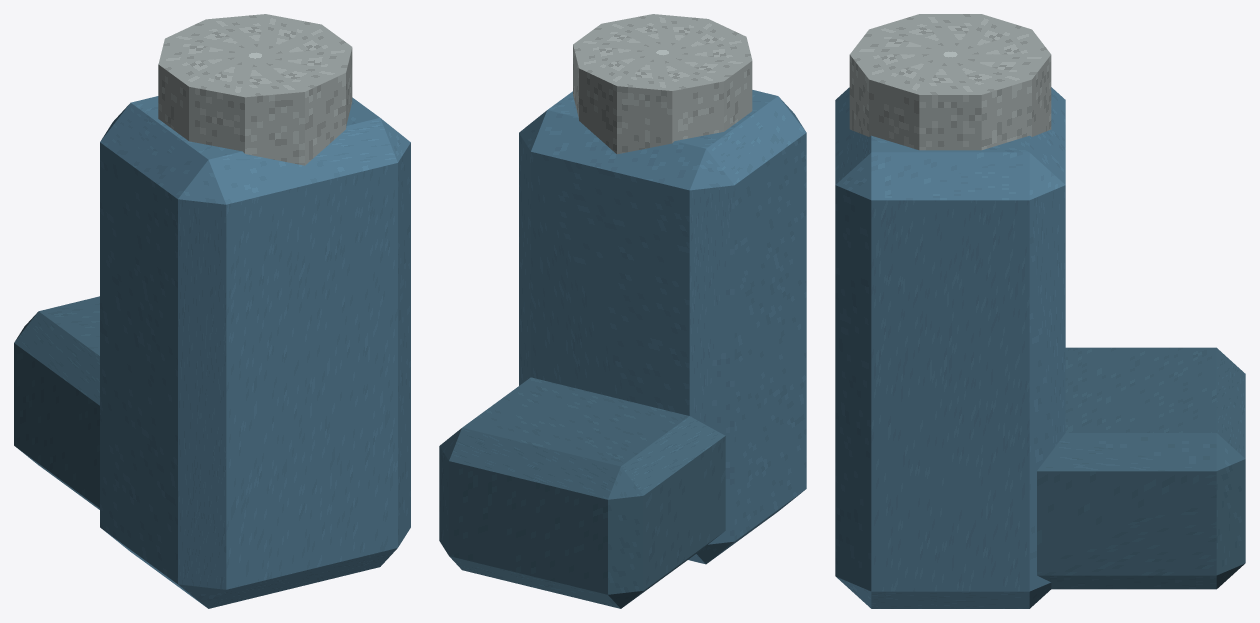
The model's file is inhaler.glb.
The picture shows the model from 3 angles, left to right: view 1: azimuth 30°, elevation 25°; view 2: azimuth 150°, elevation 25°; view 3: azimuth 270°, elevation 25°; orthographic projection. The views are drawn at different scales.
Visible parts, largest first — view 1: block_blue plastic inhaler, block_canister, block_mouthpiece cap; view 2: block_blue plastic inhaler, block_mouthpiece cap, block_canister; view 3: block_blue plastic inhaler, block_mouthpiece cap, block_canister.
Part boxes in pixels (left/top/right/bottom): block_blue plastic inhaler: left=100, top=96, right=410, bottom=608; block_canister: left=158, top=14, right=352, bottom=165; block_mouthpiece cap: left=14, top=296, right=99, bottom=509; block_blue plastic inhaler: left=519, top=90, right=806, bottom=564; block_mouthpiece cap: left=439, top=377, right=725, bottom=608; block_canister: left=573, top=14, right=752, bottom=154; block_blue plastic inhaler: left=835, top=87, right=1065, bottom=608; block_mouthpiece cap: left=1037, top=347, right=1245, bottom=589; block_canister: left=849, top=14, right=1051, bottom=150.
Bounding box in the file's own units: 0.038 × 0.0785 × 0.057.
Materials: 1 (1 with a texture image).
